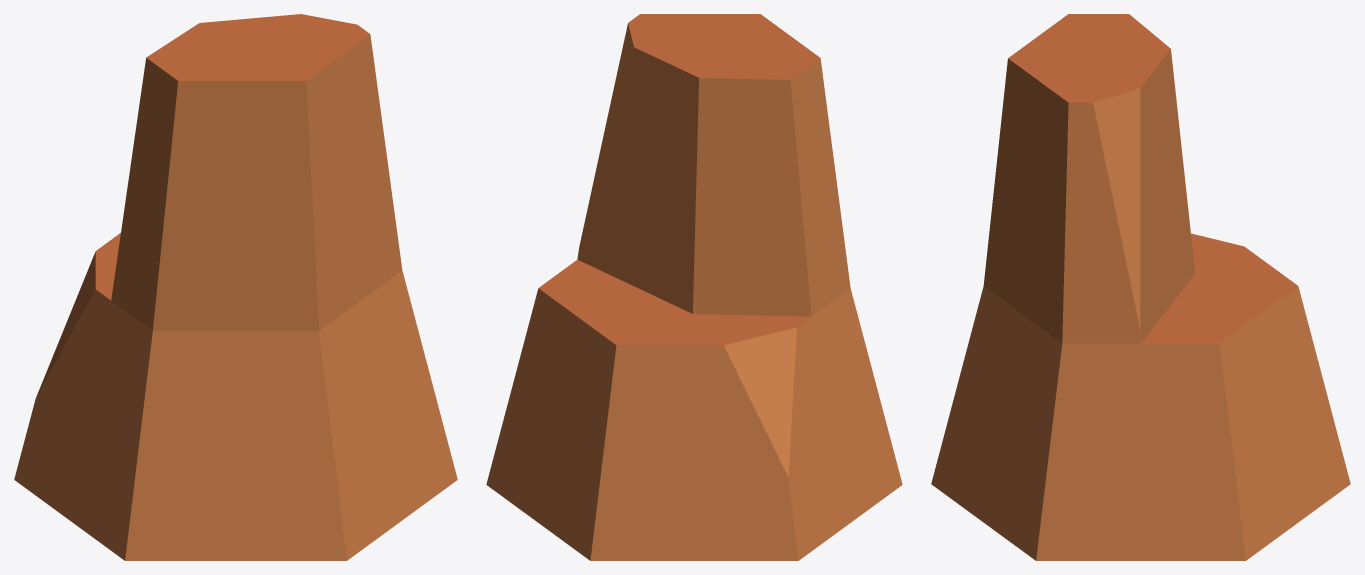
Rendered from mesa_5.fbx.
The picture shows the model from 3 angles, left to right: view 1: azimuth 30°, elevation 25°; view 2: azimuth 150°, elevation 25°; view 3: azimuth 270°, elevation 25°; orthographic projection. The views are drawn at different scales.
Parts seen in each view (by area): view 1: mesa_5; view 2: mesa_5; view 3: mesa_5.
Boxes of the visible parts, left/top/right/bottom form: mesa_5: left=14, top=14, right=457, bottom=560; mesa_5: left=486, top=14, right=902, bottom=560; mesa_5: left=931, top=14, right=1350, bottom=560.
Size of the model in its own units: 0.4437 by 0.5737 by 0.5123.
1 material, 1 textured.
